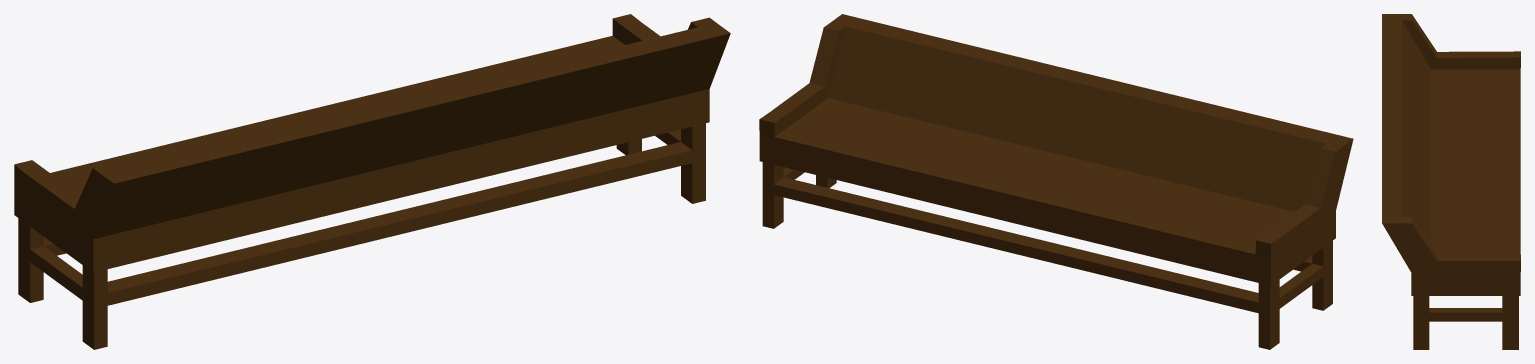
File: bench.fbx
The picture shows the model from 3 angles, left to right: view 1: azimuth 30°, elevation 25°; view 2: azimuth 150°, elevation 25°; view 3: azimuth 270°, elevation 25°; orthographic projection. The views are drawn at different scales.
Visible parts, largest first — view 1: Cube; view 2: Cube; view 3: Cube.
Boxes of the visible parts, x1,y1,x2,y2 form: Cube: (14, 14, 730, 349); Cube: (759, 14, 1353, 349); Cube: (1382, 14, 1520, 349).
Bounding box in the file's own units: 1071 × 304 × 300.
